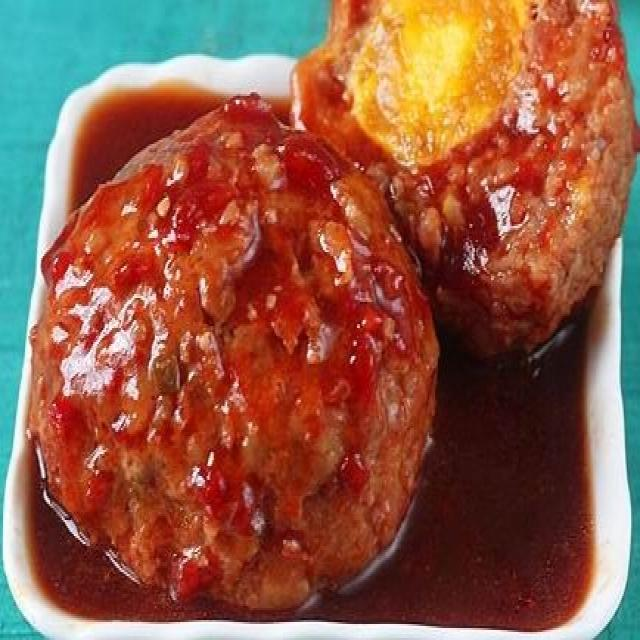meatball: (13, 82, 447, 624)
